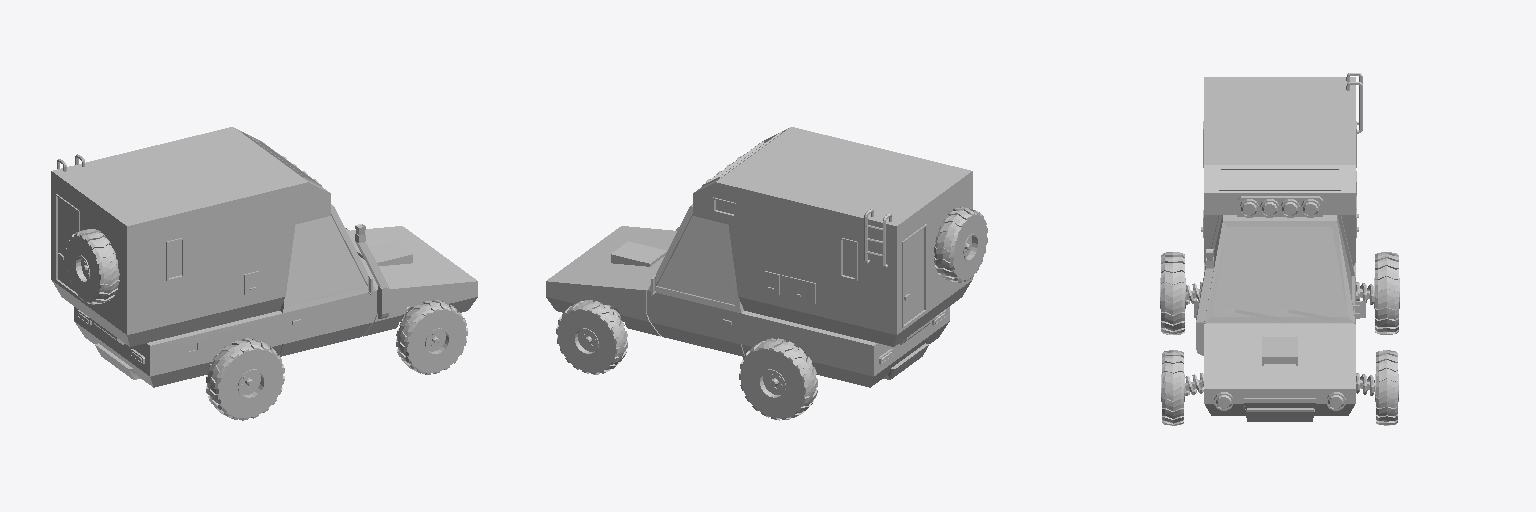
The model's file is Car.obj.
3 renders of one model, left to right at view 1: azimuth 30°, elevation 25°; view 2: azimuth 150°, elevation 25°; view 3: azimuth 270°, elevation 25°, orthographic.
Parts seen in each view (by area): view 1: Frame; view 2: Frame; view 3: Frame.
Part boxes in pixels (x1,y1,x2,y2): Frame: (51,127,477,420); Frame: (546,127,987,420); Frame: (1160,73,1399,425).
Bounding box in the file's own units: 5.75 × 3.1 × 3.16.